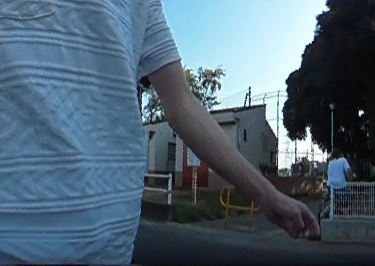person: (325, 143, 351, 215)
